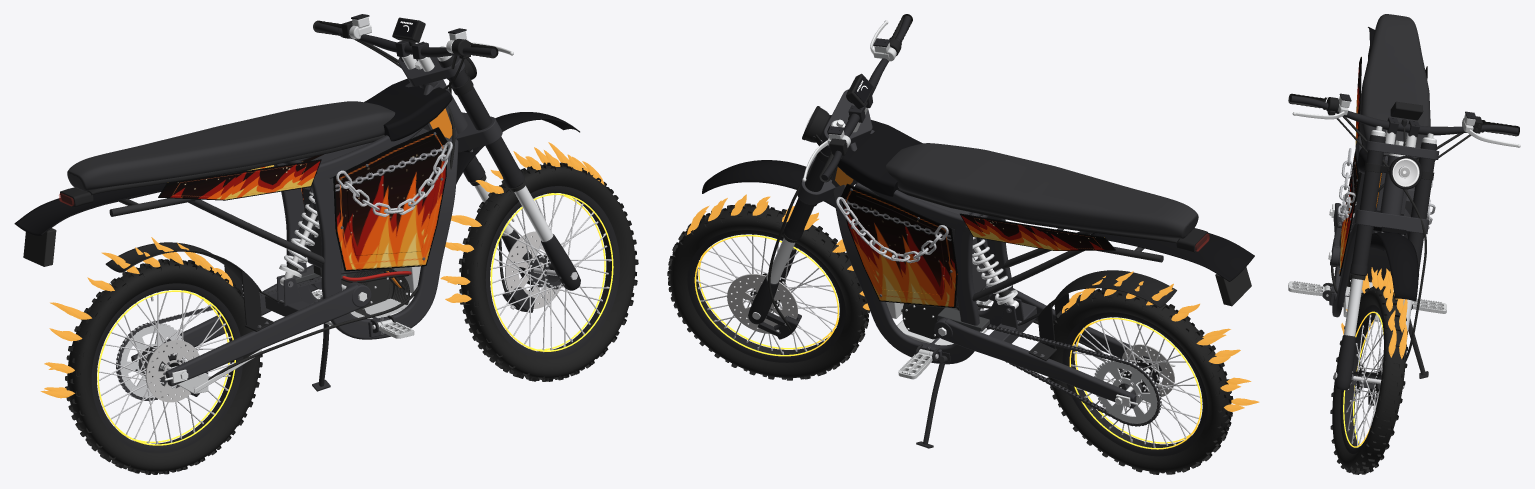
Rendered from surron-light-bee-x-hellfire.glb.
3 views of the same model, side by side, from view 1: azimuth 30°, elevation 25°; view 2: azimuth 150°, elevation 25°; view 3: azimuth 270°, elevation 25° (orthographic). The views are drawn at different scales.
Parts seen in each view (by area): view 1: Seat, Tire_R, Tire_F, Frame_Main, SidePanel_Inner_R, Swingarm_Arms, SidePanel_R, Rim_F, Rim_R, RearCover_R, Spokes_F, Spokes_R (+28 smaller); view 2: Seat, Tire_F, Tire_R, Frame_Main, Swingarm_Arms, SidePanel_Inner_L, Rim_F, SidePanel_L, Rim_R, TankCover, RearCover_L, RearFender (+25 smaller); view 3: Seat, Tire_F, FrontFender, Fork_Upper_R, Spokes_F, Frame_Main, Handlebar, Rim_F, Fire_Wheel_F, Fork_Upper_L, TripleClamp_Lower, Battery_Pack (+22 smaller).
Boxes of the visible parts, x1,y1,x2,y2 form: Seat: [67, 101, 395, 191]; Tire_R: [65, 258, 262, 474]; Tire_F: [458, 162, 638, 381]; Frame_Main: [274, 82, 458, 339]; SidePanel_Inner_R: [346, 140, 438, 255]; Swingarm_Arms: [131, 265, 371, 386]; SidePanel_R: [333, 127, 447, 271]; Rim_F: [485, 186, 619, 359]; Rim_R: [91, 283, 243, 453]; RearCover_R: [158, 159, 321, 200]; Spokes_F: [490, 193, 610, 350]; Spokes_R: [97, 290, 232, 443]; Seat: [886, 143, 1198, 238]; Tire_F: [667, 203, 869, 380]; Tire_R: [1046, 288, 1233, 474]; Frame_Main: [831, 130, 1013, 364]; Swingarm_Arms: [934, 279, 1166, 408]; SidePanel_Inner_L: [851, 195, 944, 294]; Rim_F: [687, 230, 845, 362]; SidePanel_L: [841, 183, 957, 307]; Rim_R: [1062, 312, 1207, 456]; TankCover: [837, 120, 922, 196]; RearCover_L: [960, 213, 1115, 250]; RearFender: [1090, 232, 1254, 281]; Seat: [1359, 14, 1430, 158]; Tire_F: [1330, 286, 1407, 474]; FrontFender: [1370, 231, 1418, 301]; Fork_Upper_R: [1350, 135, 1385, 276]; Spokes_F: [1346, 314, 1383, 445]; Frame_Main: [1329, 135, 1410, 317]; Handlebar: [1289, 95, 1518, 135]; Rim_F: [1340, 305, 1382, 453]; Fire_Wheel_F: [1341, 267, 1407, 358]; Fork_Upper_L: [1407, 142, 1436, 276]; TripleClamp_Lower: [1354, 209, 1429, 234]; Battery_Pack: [1349, 173, 1414, 280].
Bounding box in the file's own units: 1.97 × 1.19 × 0.7598.
Materials: 45 (2 with a texture image).
